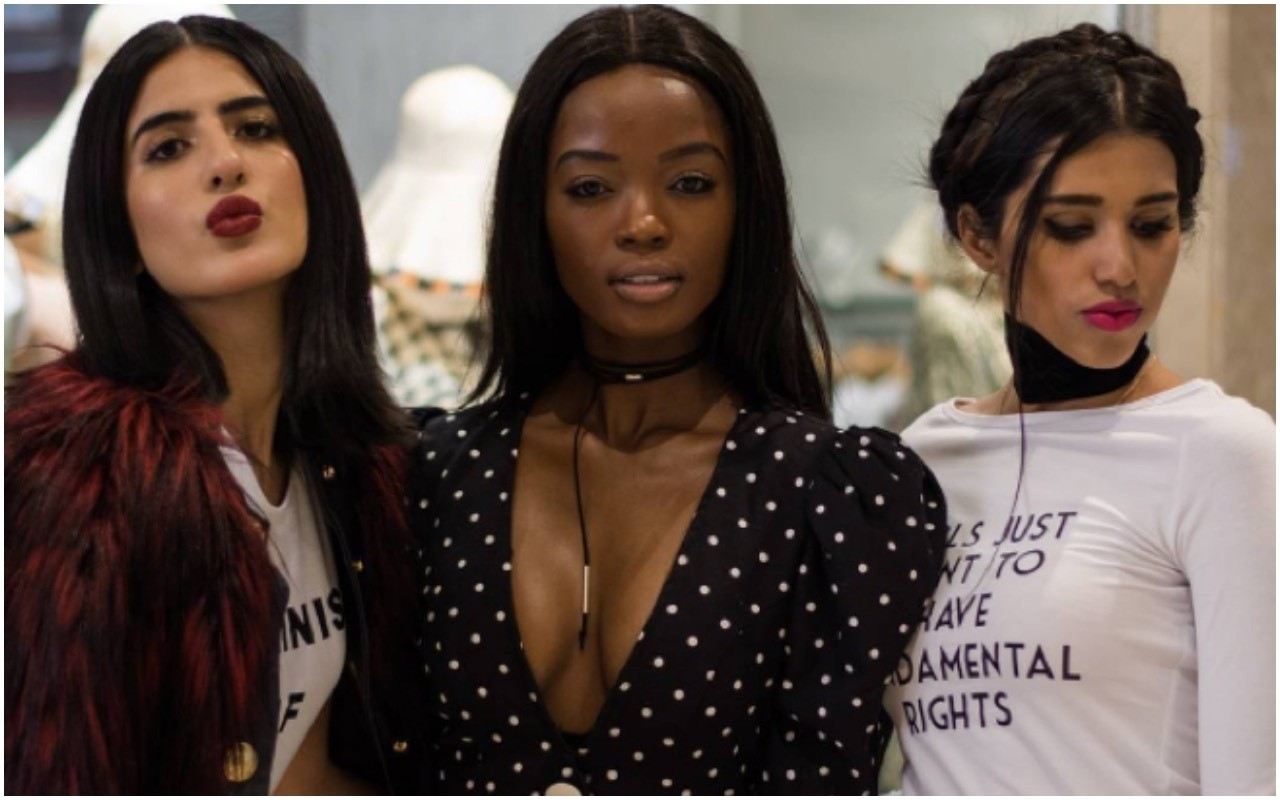face_no_mask: (493, 8, 789, 336), (929, 21, 1205, 370), (72, 16, 352, 295)
